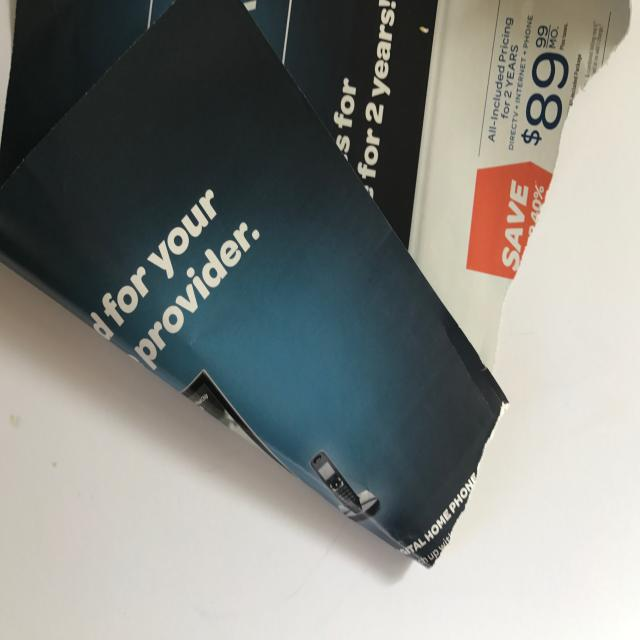paper: (2, 0, 638, 568)
